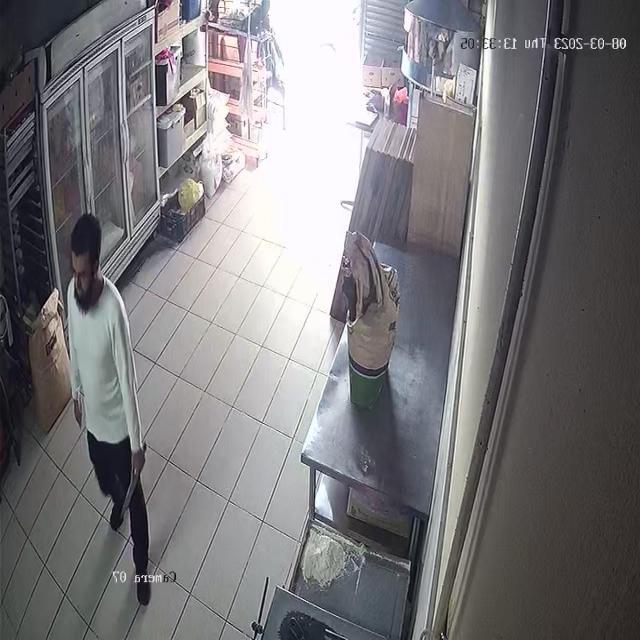Knife: (118, 460, 148, 528)
